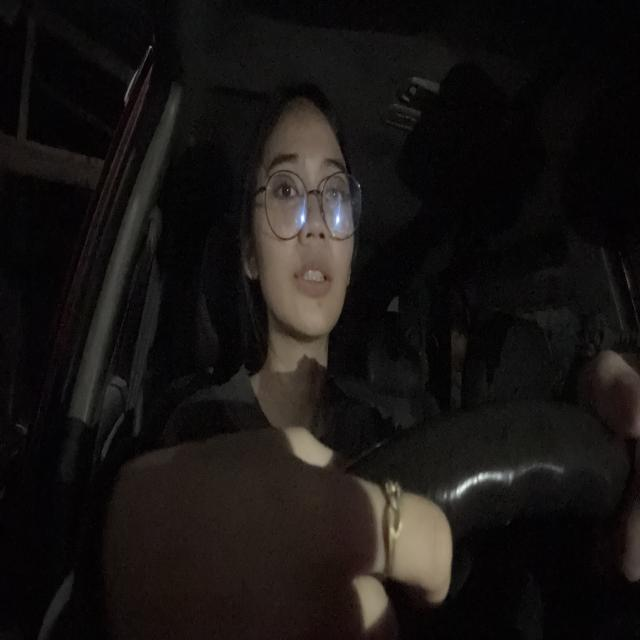open: (265, 150, 307, 224), (315, 151, 349, 223)
